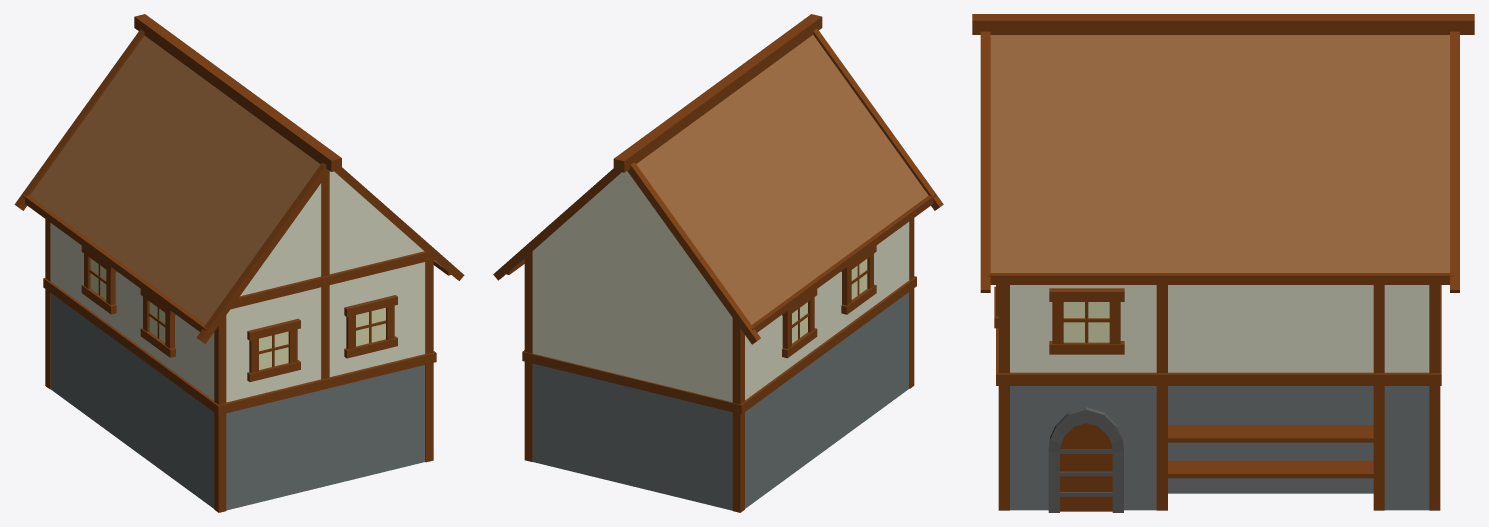
File: Bakery.fbx
The picture shows the model from 3 angles, left to right: view 1: azimuth 30°, elevation 25°; view 2: azimuth 150°, elevation 25°; view 3: azimuth 270°, elevation 25°; orthographic projection. The views are drawn at different scales.
Parts seen in each view (by area): view 1: Bakery; view 2: Bakery; view 3: Bakery.
Boxes of the visible parts, box(x1,y1,x2,y2) form: Bakery: box(14, 14, 464, 512); Bakery: box(493, 14, 943, 512); Bakery: box(972, 14, 1474, 512).
Size of the model in its own units: 1169 by 1425 by 1519.
